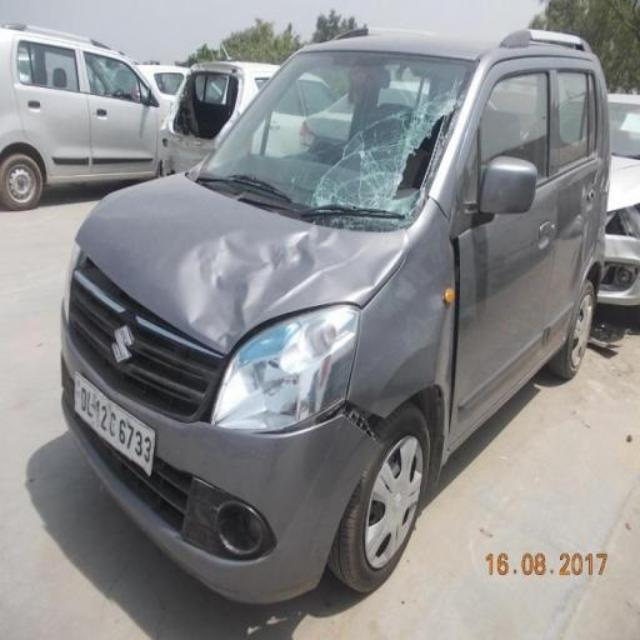dent: (179, 226, 407, 348)
dislocated part: (78, 239, 229, 359), (271, 397, 386, 452), (446, 239, 463, 443)
glass shatter: (306, 93, 466, 233)
